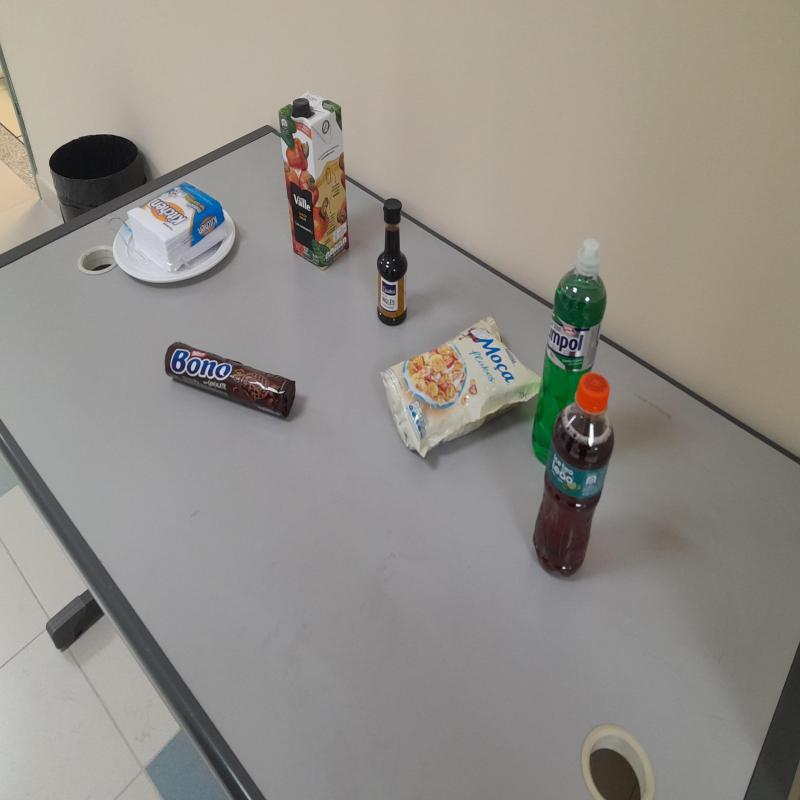Cleaner: (532, 240, 607, 468)
Cookies: (163, 344, 299, 422)
CornFlakes: (382, 319, 539, 464)
EnglishSauce: (376, 199, 410, 327)
IceTea: (533, 373, 614, 578)
